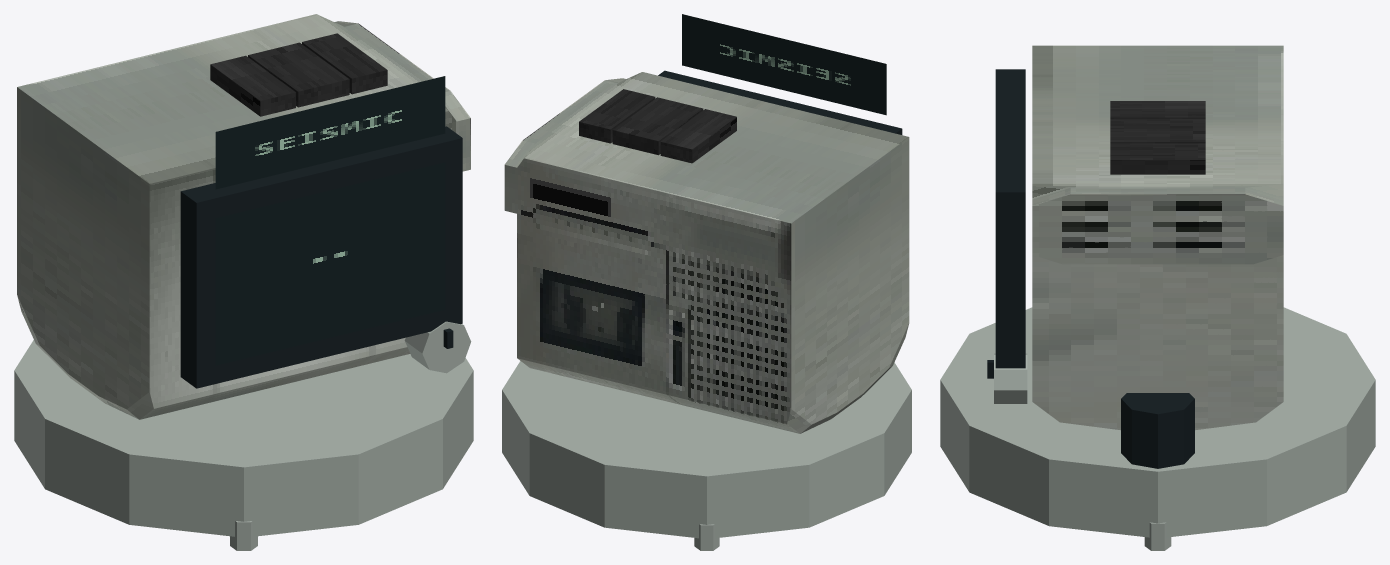
Rendered from blender_seismic_recorder_1.glb.
3 views of the same model, side by side, from view 1: azimuth 30°, elevation 25°; view 2: azimuth 150°, elevation 25°; view 3: azimuth 270°, elevation 25° (orthographic). The views are drawn at different scales.
Visible parts, largest first — view 1: blender_seismic_recorder_1; view 2: blender_seismic_recorder_1; view 3: blender_seismic_recorder_1.
Boxes of the visible parts, x1,y1,x2,y2 form: blender_seismic_recorder_1: (14,14,473,550); blender_seismic_recorder_1: (502,14,911,550); blender_seismic_recorder_1: (940,45,1375,550).
Size of the model in its own units: 0.1302 by 0.129 by 0.13.
Materials: 1 (1 with a texture image).
